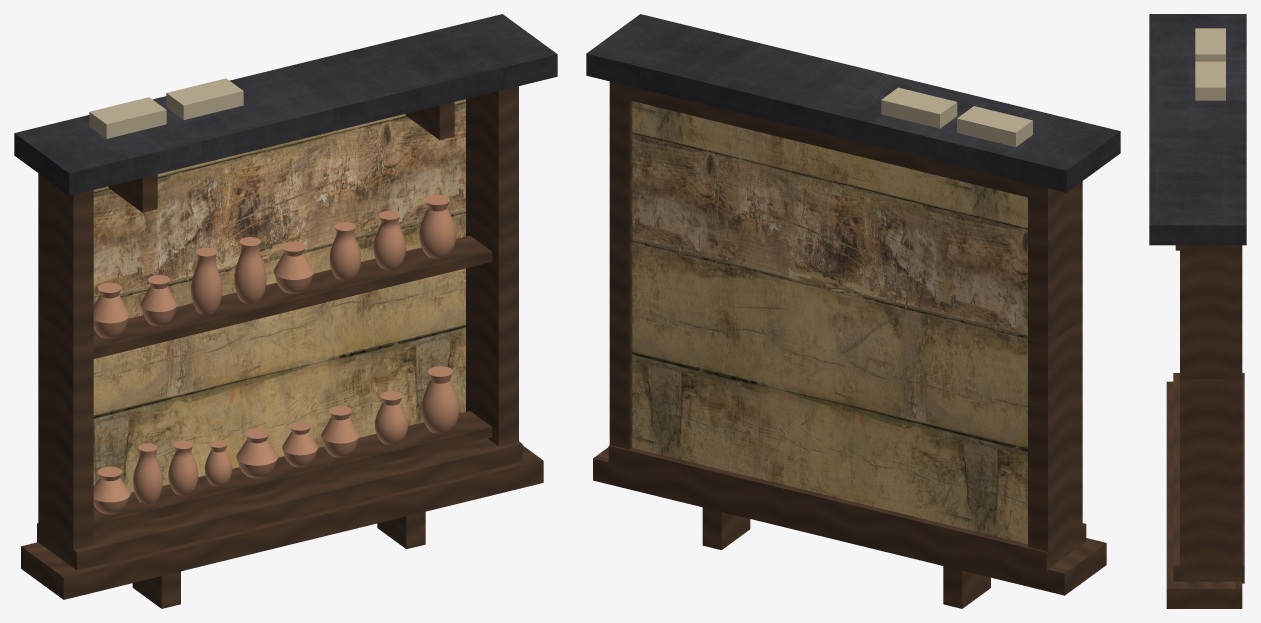
The model's file is opening_shop_goods.glb.
3 renders of one model, left to right at view 1: azimuth 30°, elevation 25°; view 2: azimuth 150°, elevation 25°; view 3: azimuth 270°, elevation 25°, orthographic. The views are drawn at different scales.
Visible parts, largest first — view 1: opening_shop_goods_0; view 2: opening_shop_goods_0; view 3: opening_shop_goods_0.
Boxes of the visible parts, x1=… form: opening_shop_goods_0: x1=14, y1=14, x2=557, y2=608; opening_shop_goods_0: x1=586, y1=14, x2=1120, y2=608; opening_shop_goods_0: x1=1149, y1=14, x2=1246, y2=608.
Bounding box in the file's own units: 2.28 × 2.2 × 0.445.
5 materials, 3 textured.
